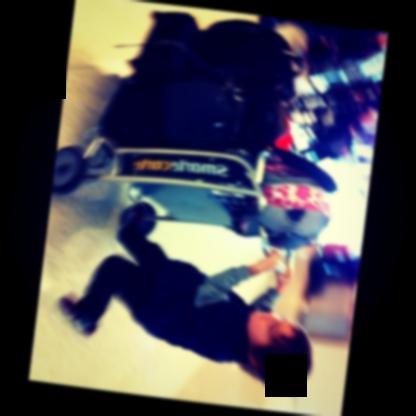backpack: (248, 145, 336, 247)
suitcase: (96, 77, 280, 158)
